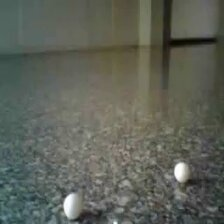w: (63, 192, 83, 220), (173, 161, 192, 184)
